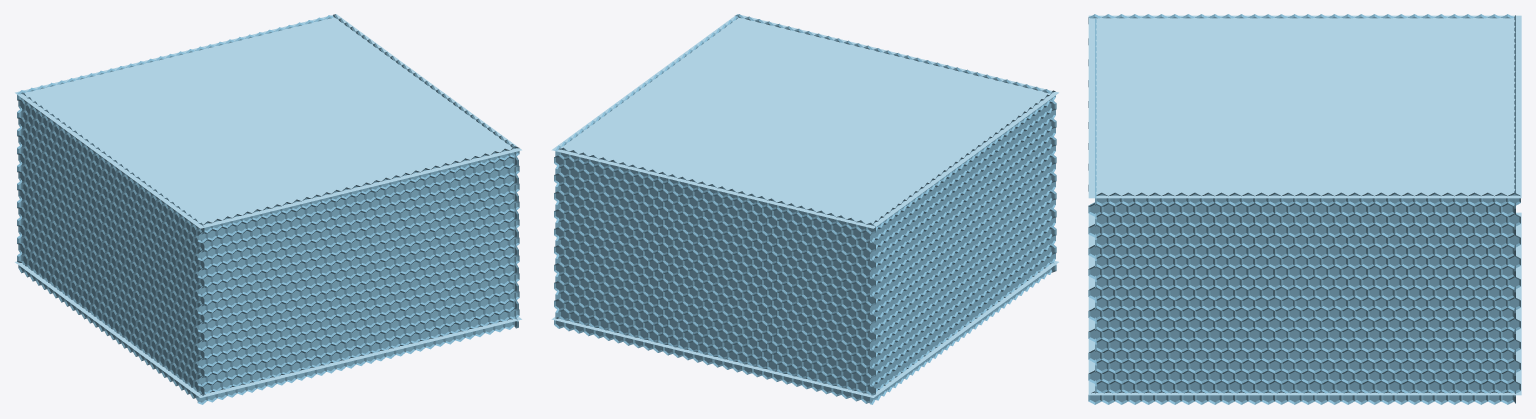
The model's file is Main.fbx.
3 views of the same model, side by side, from view 1: azimuth 30°, elevation 25°; view 2: azimuth 150°, elevation 25°; view 3: azimuth 270°, elevation 25° (orthographic). The views are drawn at different scales.
Parts seen in each view (by area): view 1: Cylinder-01, Plane-02, Plane-01; view 2: Cylinder-01, Plane-02, Plane-01; view 3: Cylinder-01, Plane-02, Plane-01.
Boxes of the visible parts, x1,y1,x2,y2 form: Cylinder-01: (17, 14, 519, 404); Plane-02: (15, 14, 521, 228); Plane-01: (15, 261, 521, 397); Cylinder-01: (554, 14, 1056, 404); Plane-02: (551, 14, 1058, 228); Plane-01: (551, 261, 1058, 397); Cylinder-01: (1088, 14, 1520, 404); Plane-02: (1088, 15, 1521, 198); Plane-01: (1088, 212, 1521, 395).
Bounding box in the file's own units: 56.3 × 30.5 × 56.35.
